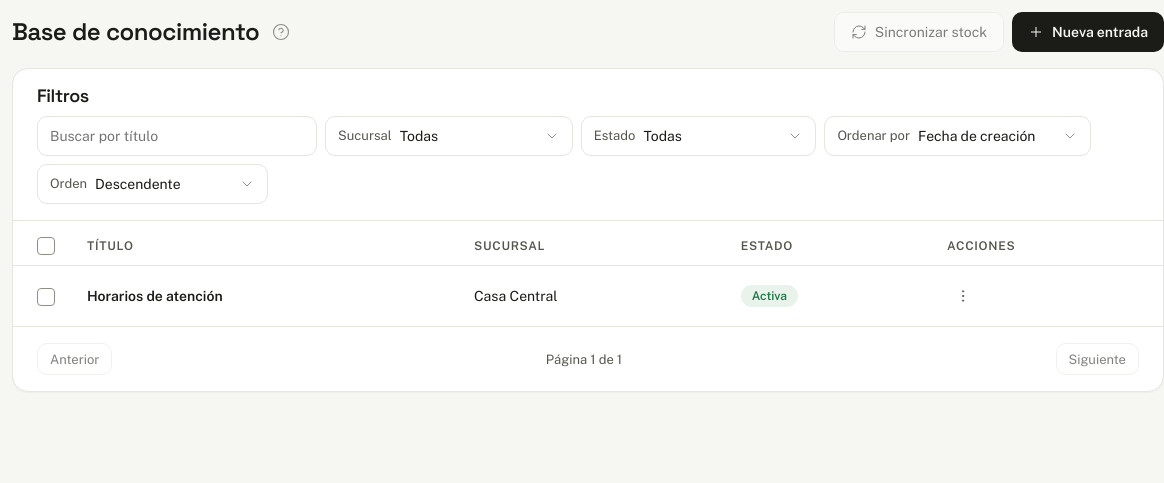
Test: KnowledgeBaseListPage › eliminar › un DELETE fallido muestra el mensaje del backend tal cual, y la fila sigue ahí
The width and height of the screenshot is (1164, 483).
expect the text "Horarios de atención" is shown: met, box [71,266,458,326]
Click the button named "Más acciones": (963, 296) [947,280,979,312]
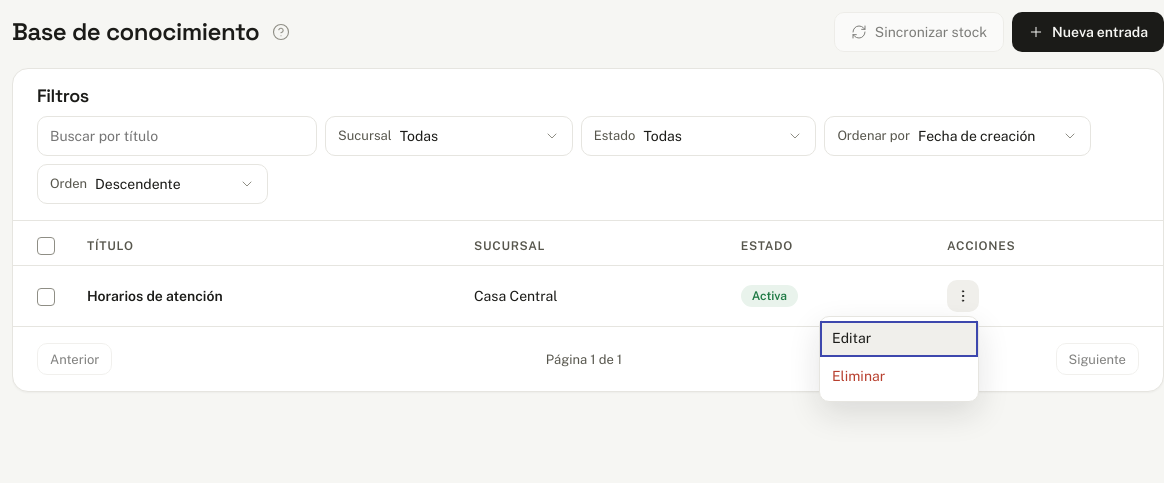
Click the menu item "Eliminar": (899, 377) [820,357,978,397]
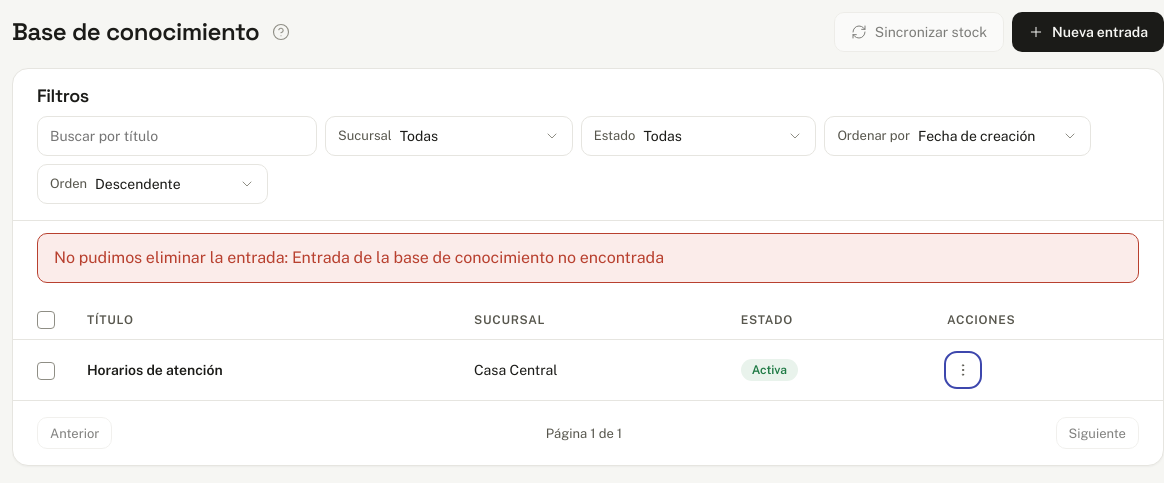
expect the text "Horarios de atención" is shown: met, box [71,340,458,400]
expect the message shows "Entrada de la base de conocimiento no encontrada": met, box [284,248,664,266]
